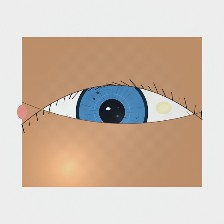pinguecula_lesion: (147, 95, 180, 121)
